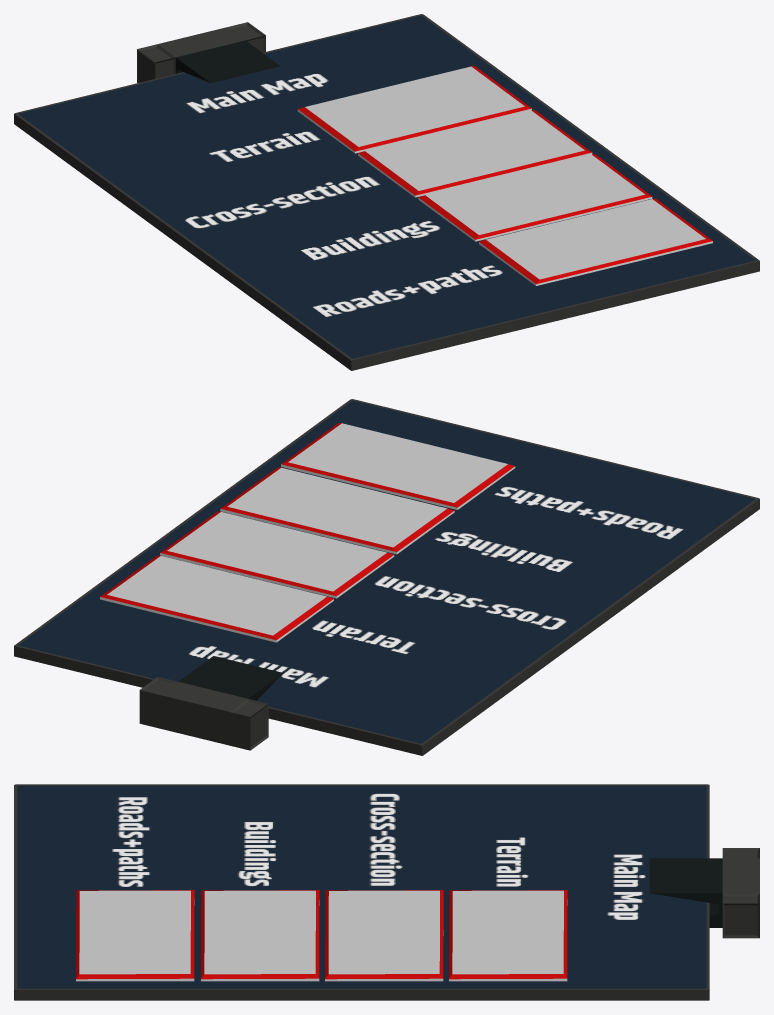
Rendered from clip_main_large_uv.obj.
The picture shows the model from 3 angles, top to bottom: view 1: azimuth 30°, elevation 25°; view 2: azimuth 150°, elevation 25°; view 3: azimuth 270°, elevation 25°; orthographic projection. The views are drawn at different scales.
Parts seen in each view (by area): view 1: clip_main_large; view 2: clip_main_large; view 3: clip_main_large.
Part boxes in pixels (x1,y1,x2,y2): clip_main_large: (14, 14, 759, 370); clip_main_large: (14, 399, 759, 755); clip_main_large: (14, 784, 759, 1000).
Bounding box in the file's own units: 0.2144 × 0.0169 × 0.3289.
Materials: 16 (1 with a texture image).
